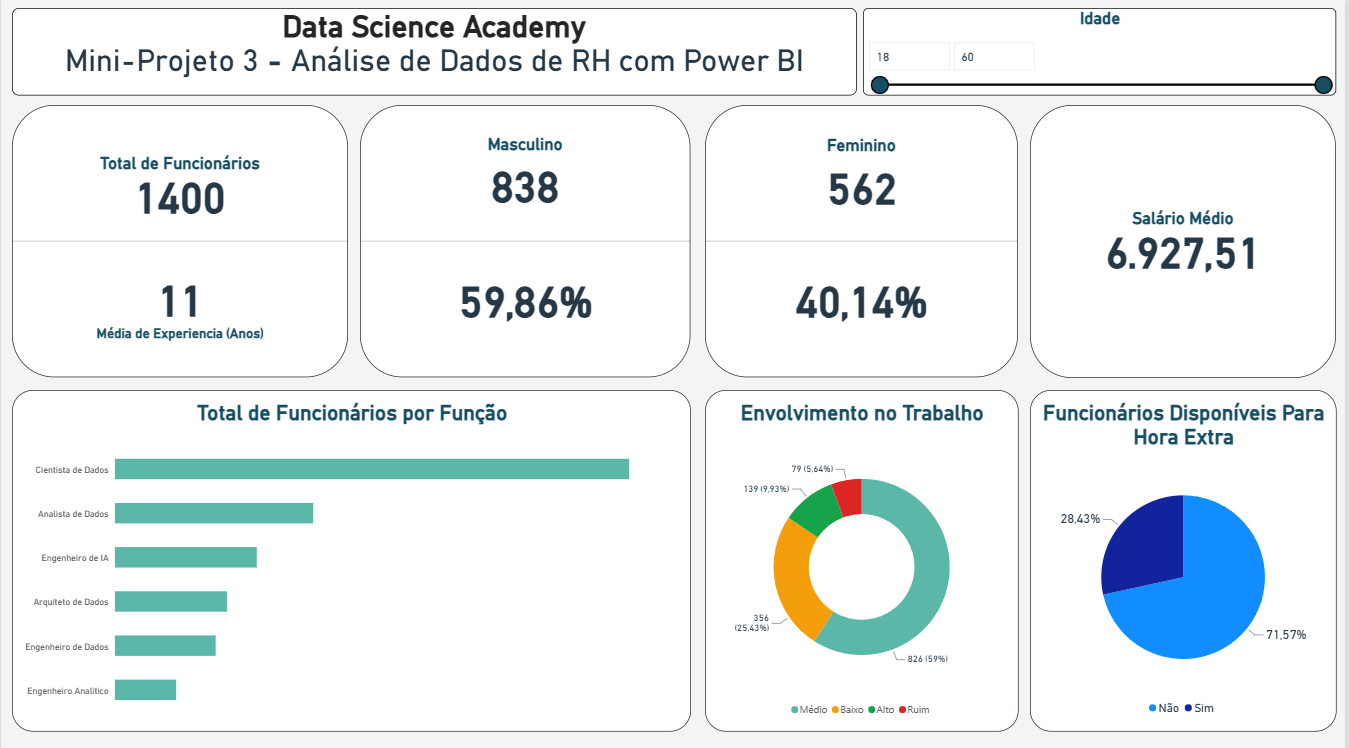

The page's visual inventory and layout, read from the dashboard file:
{"tool":"powerbi","page":{"name":"DashboardRH","canvas":[1920,1080],"ordinal":0},"visuals":[{"type":"textbox","box":[15,11.7,1206.7,125],"z":0},{"type":"cardVisual","fields":{"Data":["Medidas.Total_Pessoas","Avg(DatasetRH.Anos_Experiencia)"]},"box":[15,150,480,390],"z":1000},{"type":"cardVisual","fields":{"Data":["Medidas.Qtd_Masculino","Medidas.%_Masc"]},"box":[512.5,150,472.5,390],"z":2000},{"type":"cardVisual","fields":{"Data":["Medidas.Qtd_Feminino","Medidas.%_Fem"]},"box":[1005,150,447.5,390],"z":3000},{"type":"cardVisual","fields":{"Data":["Avg(DatasetRH.Salario_Mensal)"]},"box":[1470,150,437.5,390],"z":4000},{"type":"barChart","title":"Total de Funcionários por Função","fields":{"Category":["DatasetRH.Funcao"],"Y":["Medidas.Total_Pessoas"]},"box":[15,557.5,970,487.5],"z":5000},{"type":"donutChart","title":"Envolvimento no Trabalho","fields":{"Category":["DatasetRH.Indice_Envolvimento_Trabalho"],"Y":["Medidas.Total_Pessoas"]},"box":[1005,557.5,447.5,487.5],"z":6000},{"type":"pieChart","title":"Funcionários Disponíveis Para Hora Extra","fields":{"Category":["DatasetRH.Disponivel_Hora_Extra"],"Y":["Medidas.Total_Pessoas"]},"box":[1470,557.5,437.5,487.5],"z":7000},{"type":"slicer","title":"Idade","fields":{"Values":["DatasetRH.Idade"]},"box":[1231.4,11.7,675.5,125.5],"z":8000}]}

Visuals, with their boxes in screenshot pixels (x1, y1, x2, y2), scaled from the page's 1920x1080 canvas onto the 1349x748 screenshot:
textbox: left=11, top=8, right=858, bottom=95
cardVisual - Medidas.Total_Pessoas x Avg(DatasetRH.Anos_Experiencia): left=11, top=104, right=348, bottom=374
cardVisual - Medidas.Qtd_Masculino x Medidas.%_Masc: left=360, top=104, right=692, bottom=374
cardVisual - Medidas.Qtd_Feminino x Medidas.%_Fem: left=706, top=104, right=1021, bottom=374
cardVisual - Avg(DatasetRH.Salario_Mensal): left=1033, top=104, right=1340, bottom=374
"Total de Funcionários por Função" barChart: left=11, top=386, right=692, bottom=724
"Envolvimento no Trabalho" donutChart: left=706, top=386, right=1021, bottom=724
"Funcionários Disponíveis Para Hora Extra" pieChart: left=1033, top=386, right=1340, bottom=724
"Idade" slicer: left=865, top=8, right=1340, bottom=95
